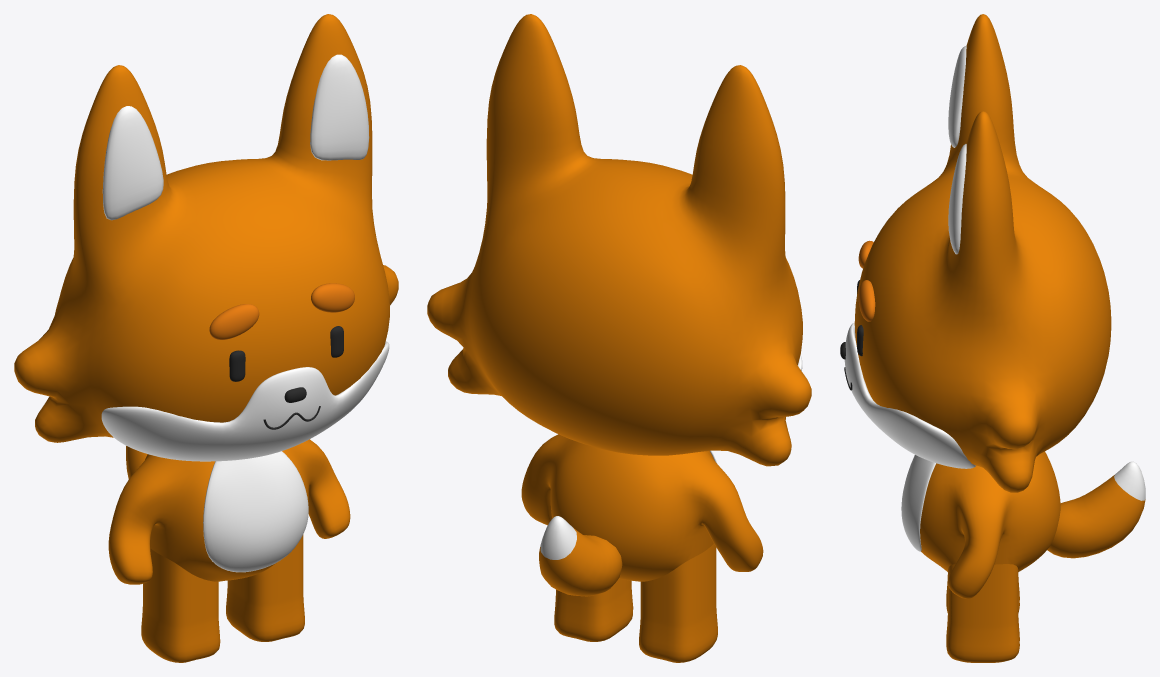
Rendered from fox3d-DmqsBBDf.glb.
The picture shows the model from 3 angles, left to right: view 1: azimuth 30°, elevation 25°; view 2: azimuth 150°, elevation 25°; view 3: azimuth 270°, elevation 25°; orthographic projection. The views are drawn at different scales.
Parts seen in each view (by area): view 1: Cube, Cube.001, Cube.002, Cube.004, Cube.003, Cube.006, Cube.005; view 2: Cube, Cube.001, Cube.008; view 3: Cube, Cube.001, Cube.008, Cube.002, Cube.003, Cube.004, Cube.006.
Part boxes in pixels (<box>): Cube: <box>14,14,398,442</box>; Cube.001: <box>108,439,350,662</box>; Cube.002: <box>101,341,389,461</box>; Cube.004: <box>203,451,308,572</box>; Cube.003: <box>102,54,369,220</box>; Cube.006: <box>209,283,354,339</box>; Cube.005: <box>229,326,343,381</box>; Cube: <box>427,14,811,466</box>; Cube.001: <box>521,434,763,662</box>; Cube.008: <box>539,516,622,596</box>; Cube: <box>854,14,1111,492</box>; Cube.001: <box>920,451,1060,662</box>; Cube.008: <box>1047,461,1145,558</box>; Cube.002: <box>844,323,975,468</box>; Cube.003: <box>948,45,966,254</box>; Cube.004: <box>901,455,936,551</box>; Cube.006: <box>858,240,875,321</box>.
Bounding box in the file's own units: 2.83 × 4.29 × 2.08.
